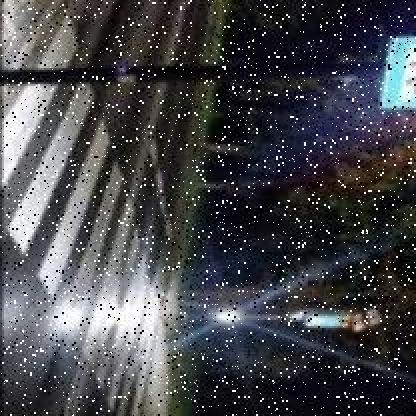Pedestrian Crossing: (383, 35, 416, 109), (299, 312, 339, 332)
